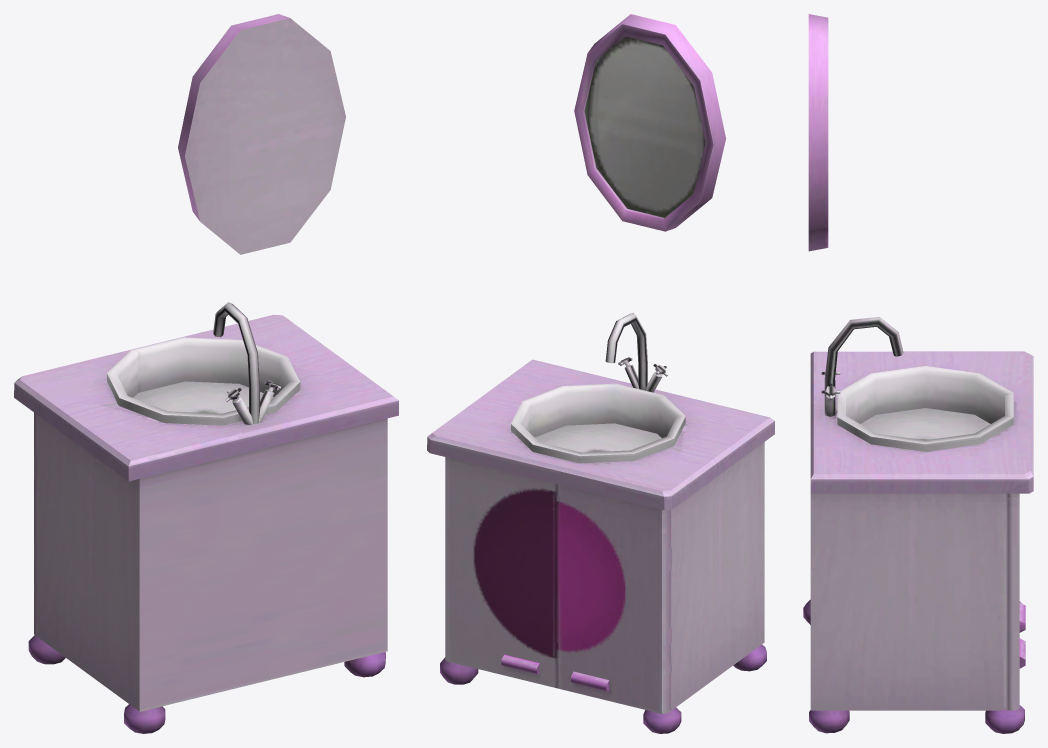
File: furni_0200525_01.FBX
3 renders of one model, left to right at view 1: azimuth 30°, elevation 25°; view 2: azimuth 150°, elevation 25°; view 3: azimuth 270°, elevation 25°, orthographic. The views are drawn at different scales.
Parts seen in each view (by area): view 1: furni_0200525_01; view 2: furni_0200525_01; view 3: furni_0200525_01.
Boxes of the visible parts, x1,y1,x2,y2 form: furni_0200525_01: (14,14,398,733); furni_0200525_01: (427,14,774,733); furni_0200525_01: (803,14,1033,733).
Size of the model in its own units: 80.26 by 193 by 62.09.
Materials: 1 (1 with a texture image).
